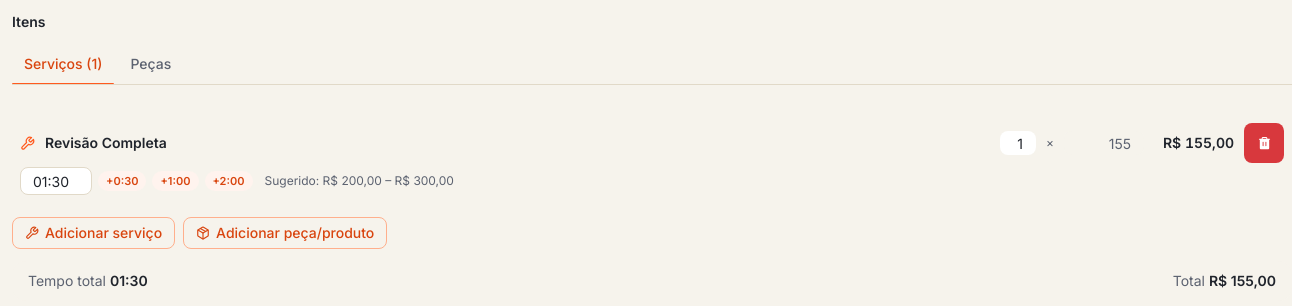
Test: ItemsEditor — serviço cobrado pela hora técnica por categoria › keeps a saved service linked to hora técnica when its stored value matches valorHora(categoria) × tempo
The image size is (1292, 306).
Click the button "+1:00" at (175, 181), box [152,171,198,191]
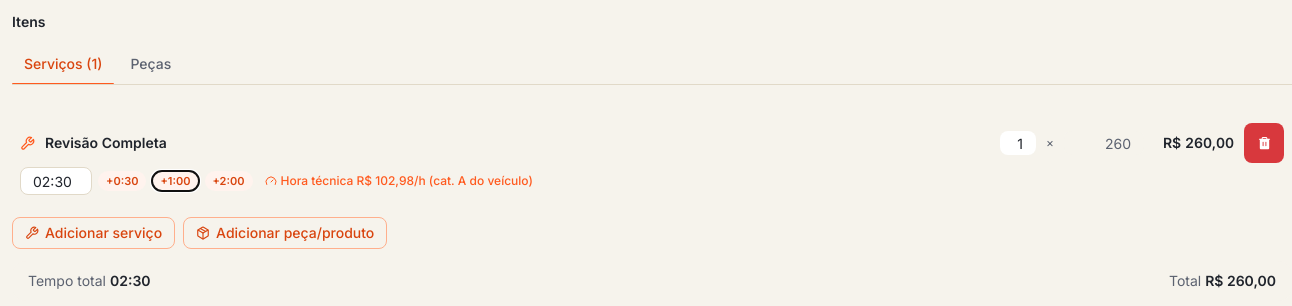
expect the number field named "Valor unitário" holds "260": met, box [1064,131,1144,155]
